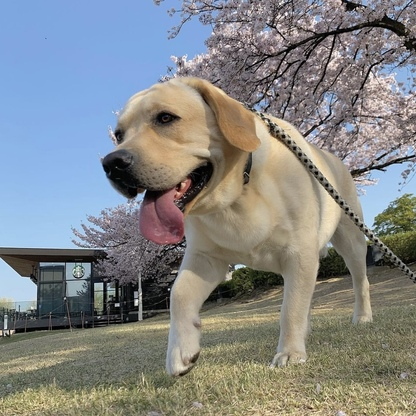labrado: (98, 73, 378, 380)
